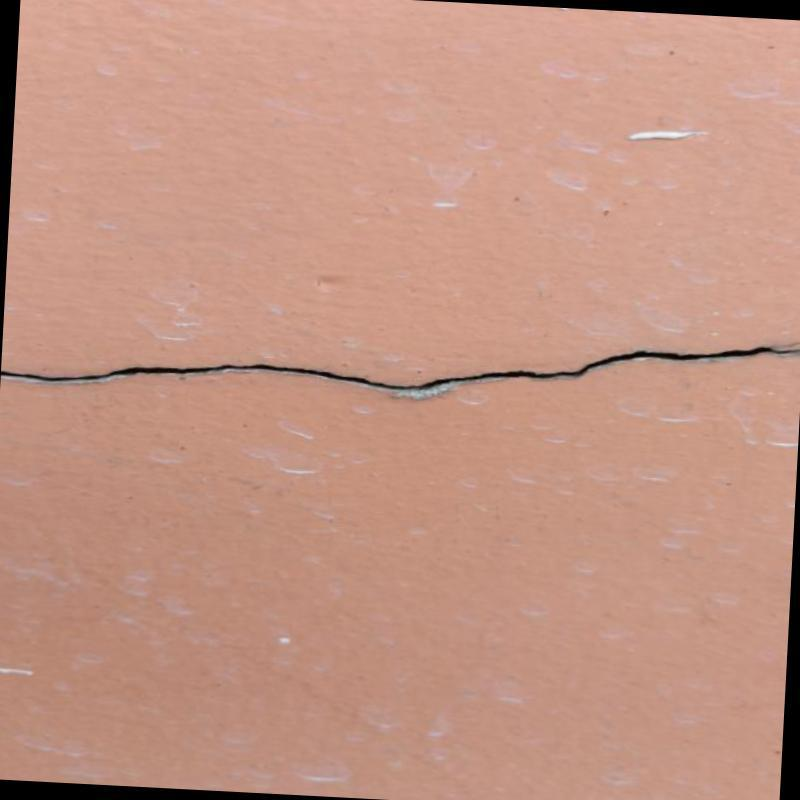pothole: (1, 344, 800, 400)
